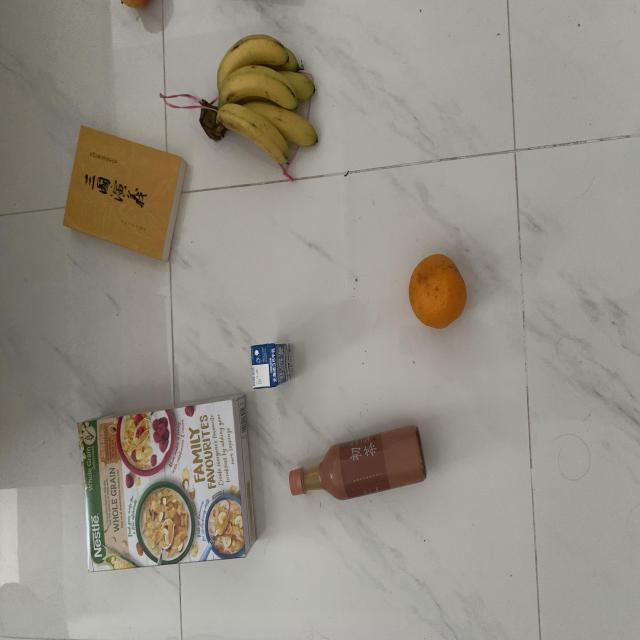Banana: (198, 34, 325, 166)
Book: (61, 121, 188, 268)
Cerealbox: (75, 390, 258, 575)
Orange: (407, 252, 471, 333)
